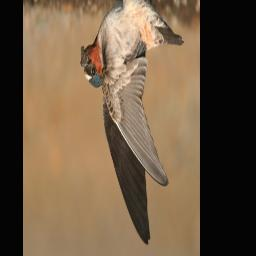Swallow: (80, 0, 185, 247)
